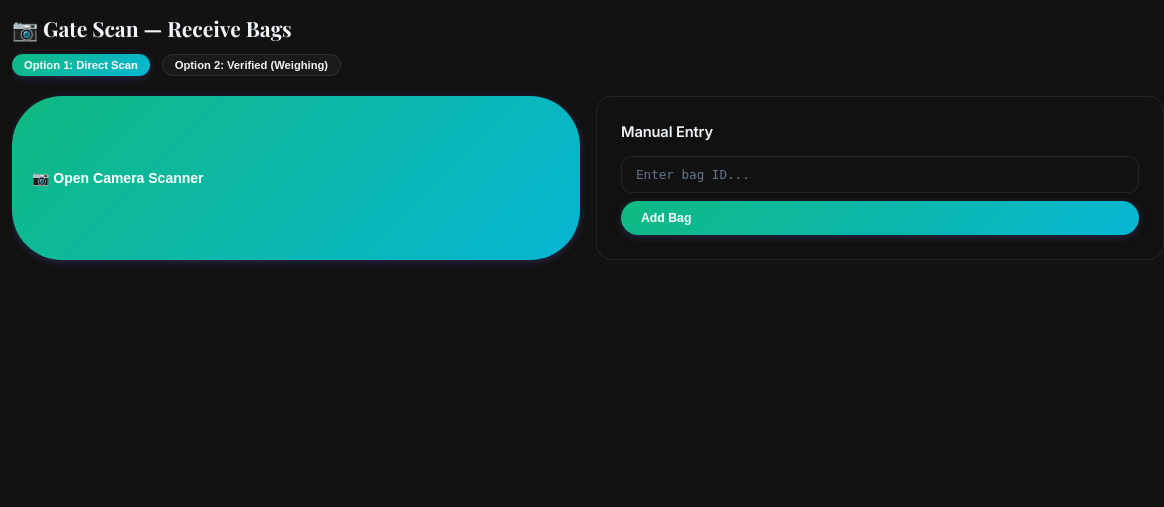
Test: Plant Gate Scan Page Component › scans and adds bag directly in fast mode
Step 1. Type "JH-DHA-HCF0001-Y-20260830-000001" into the field with placeholder "Enter bag ID..." → (880, 175), box [621, 156, 1139, 193]
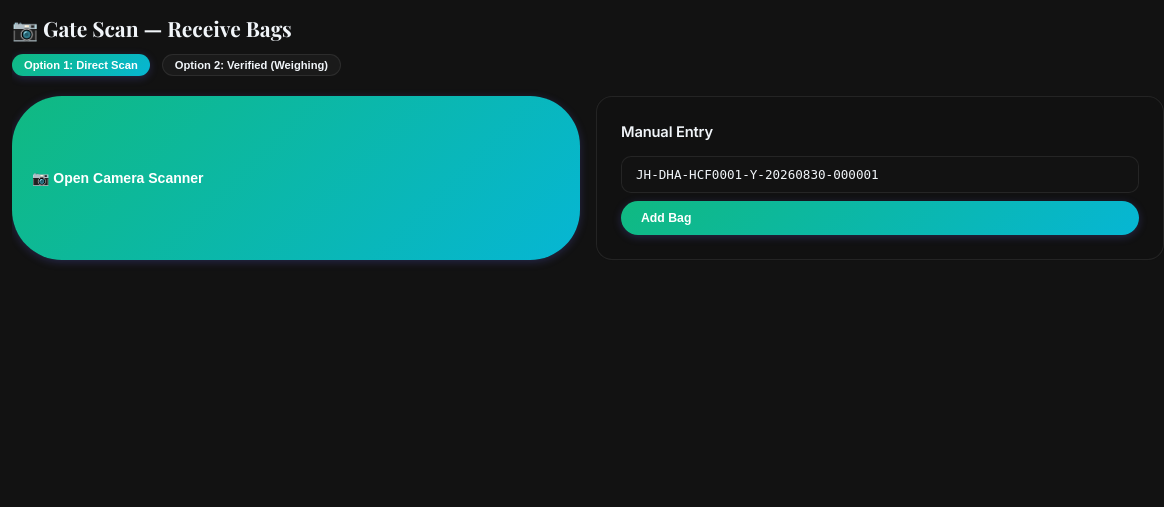
Step 2. Click the button "Add Bag" → (666, 218), box [621, 201, 1139, 235]
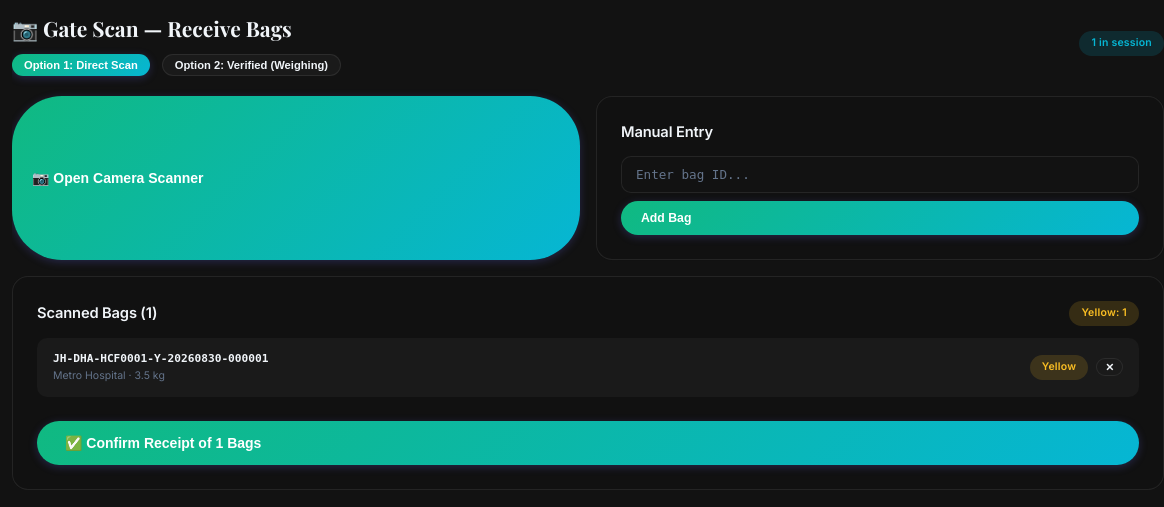
expect the text "JH-DHA-HCF0001-Y-20260830-000001" is shown: met, box [53, 350, 268, 368]
expect the text "Metro Hospital · 3.5 kg" is shown: met, box [53, 369, 165, 382]
expect the button "✅ Confirm Receipt of 1 Bags" is shown: met, box [37, 421, 1139, 465]
